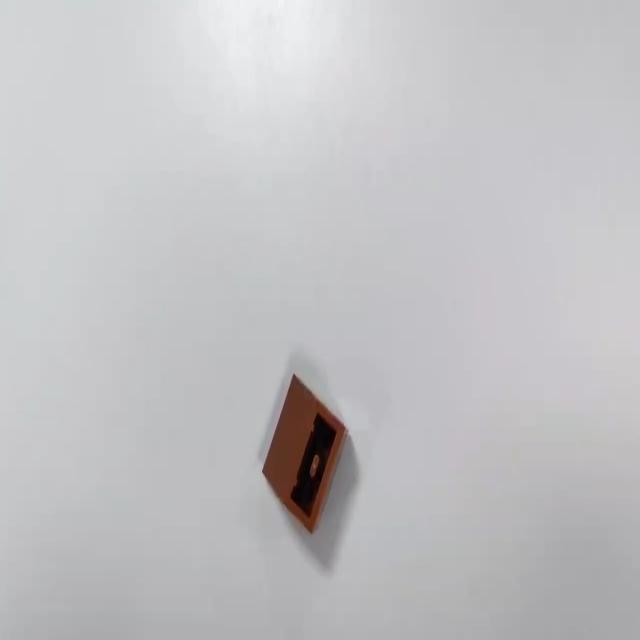X2x2x1: (261, 371, 349, 534)
